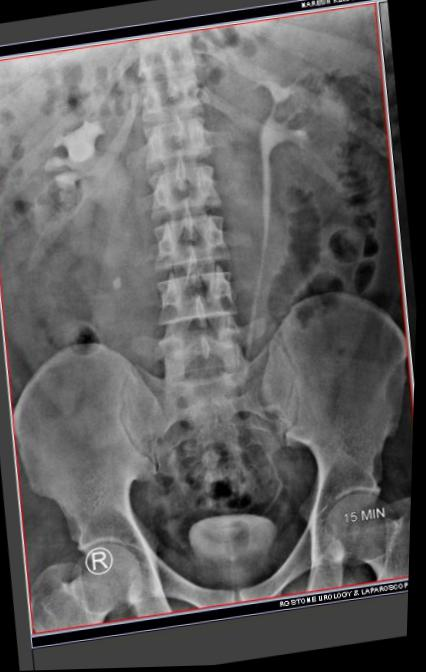bladder: (172, 536, 296, 643)
left kidney: (232, 26, 356, 233)
right kidney: (0, 71, 118, 285)
vertebrae: (127, 104, 209, 165)
